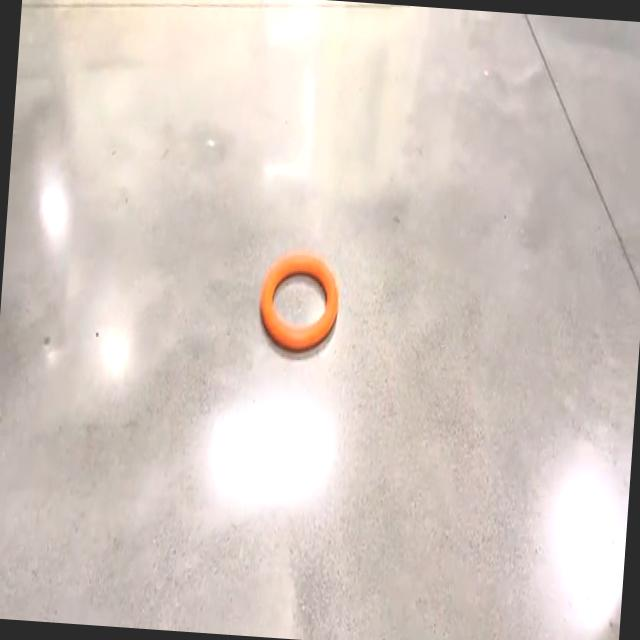note: (261, 253, 338, 351)
